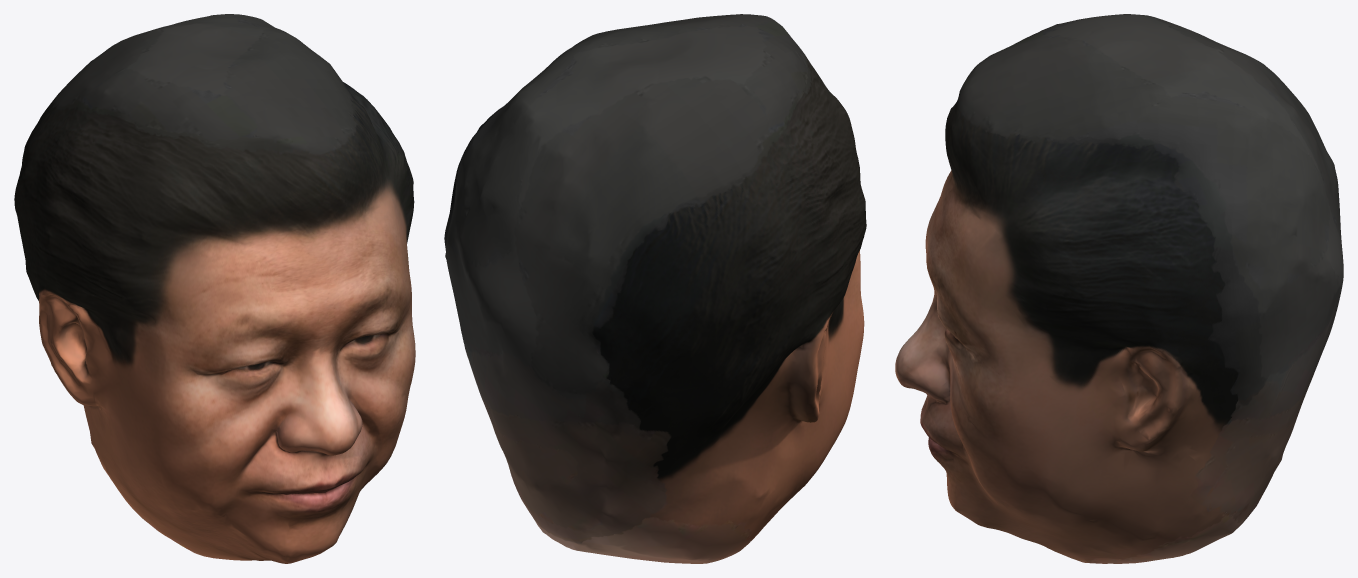
The picture shows the model from 3 angles, left to right: view 1: azimuth 30°, elevation 25°; view 2: azimuth 150°, elevation 25°; view 3: azimuth 270°, elevation 25°; orthographic projection. The views are drawn at different scales.
Visible parts, largest first — view 1: mainMeshNode; view 2: mainMeshNode; view 3: mainMeshNode.
Part boxes in pixels (left/top/right/bottom): mainMeshNode: left=14, top=14, right=415, bottom=563; mainMeshNode: left=444, top=14, right=866, bottom=563; mainMeshNode: left=895, top=14, right=1343, bottom=563.
Size of the model in its own units: 0.2688 by 0.3707 by 0.3.
Materials: 1 (1 with a texture image).
